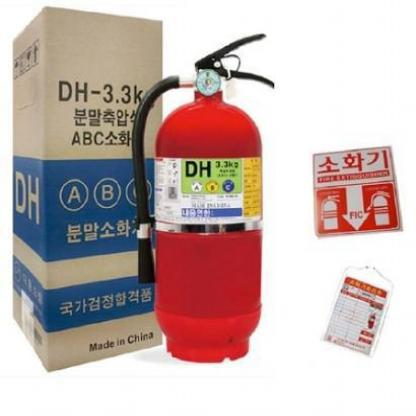Fire Extinguisher: (127, 34, 284, 371)
